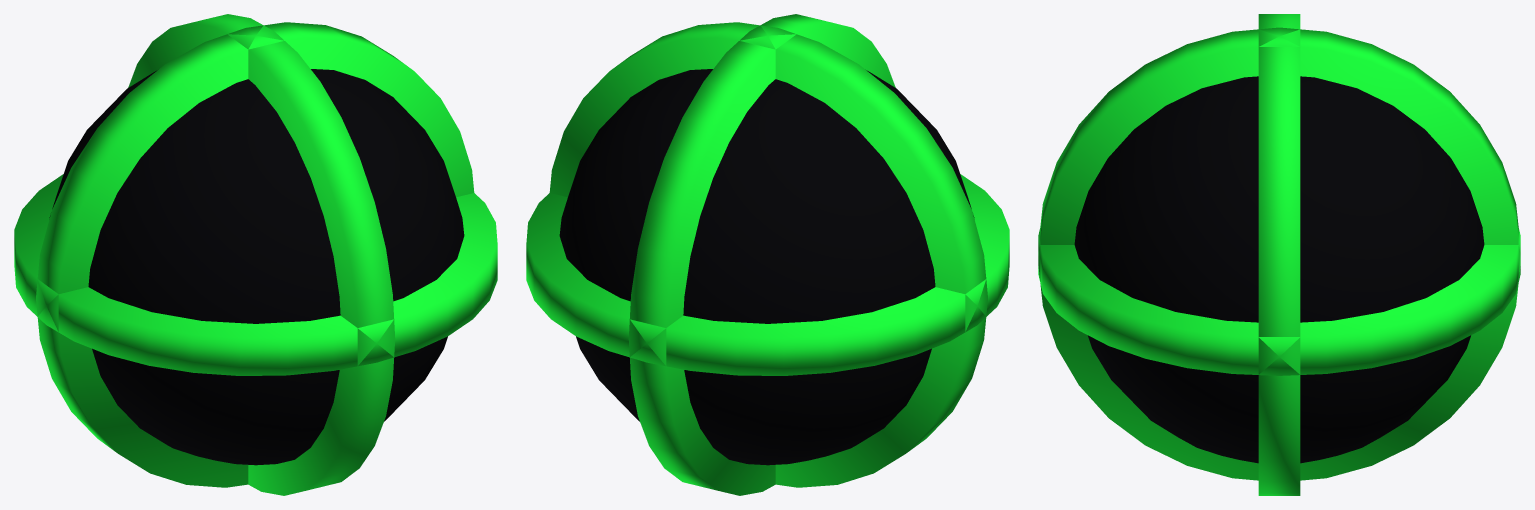
File: Ball-14.dae
3 views of the same model, side by side, from view 1: azimuth 30°, elevation 25°; view 2: azimuth 150°, elevation 25°; view 3: azimuth 270°, elevation 25° (orthographic).
Parts seen in each view (by area): view 1: Ball; view 2: Ball; view 3: Ball.
Boxes of the visible parts, x1,y1,x2,y2 form: Ball: (14, 14, 497, 495); Ball: (526, 14, 1009, 495); Ball: (1038, 14, 1520, 495).
Size of the model in its own units: 0.046 by 0.046 by 0.046.
